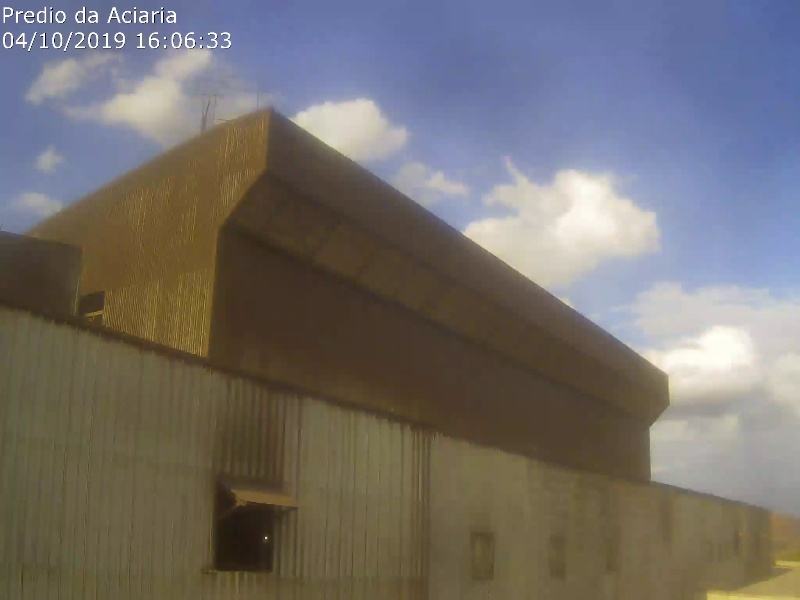bom: (329, 34, 782, 434)
